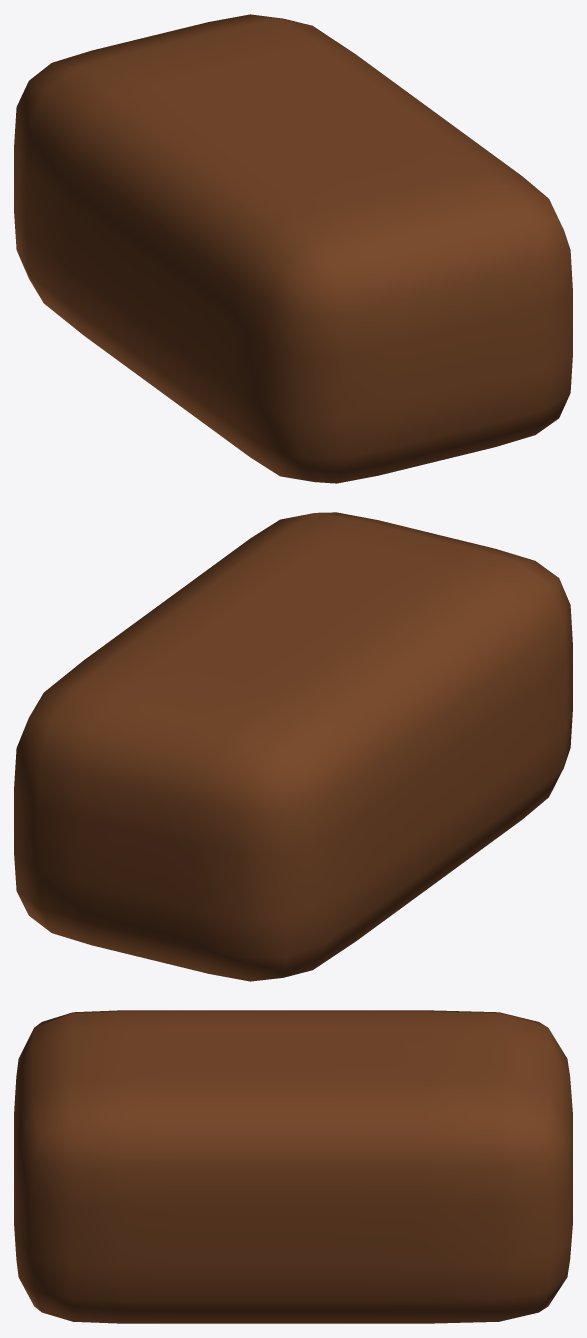
The model's file is ClayWet.fbx.
The picture shows the model from 3 angles, top to bottom: view 1: azimuth 30°, elevation 25°; view 2: azimuth 150°, elevation 25°; view 3: azimuth 270°, elevation 25°; orthographic projection. The views are drawn at different scales.
Parts seen in each view (by area): view 1: Cube; view 2: Cube; view 3: Cube.
Part boxes in pixels (box(x1,y1,x2,y2)): Cube: box(14, 14, 572, 483); Cube: box(14, 512, 572, 981); Cube: box(14, 1010, 572, 1323).
Size of the model in its own units: 114 by 88.61 by 200.
